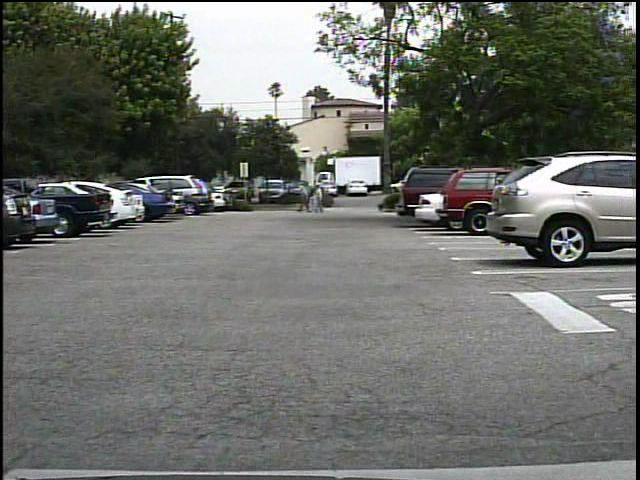person: (311, 185, 330, 216), (296, 185, 311, 215), (307, 186, 320, 217)
